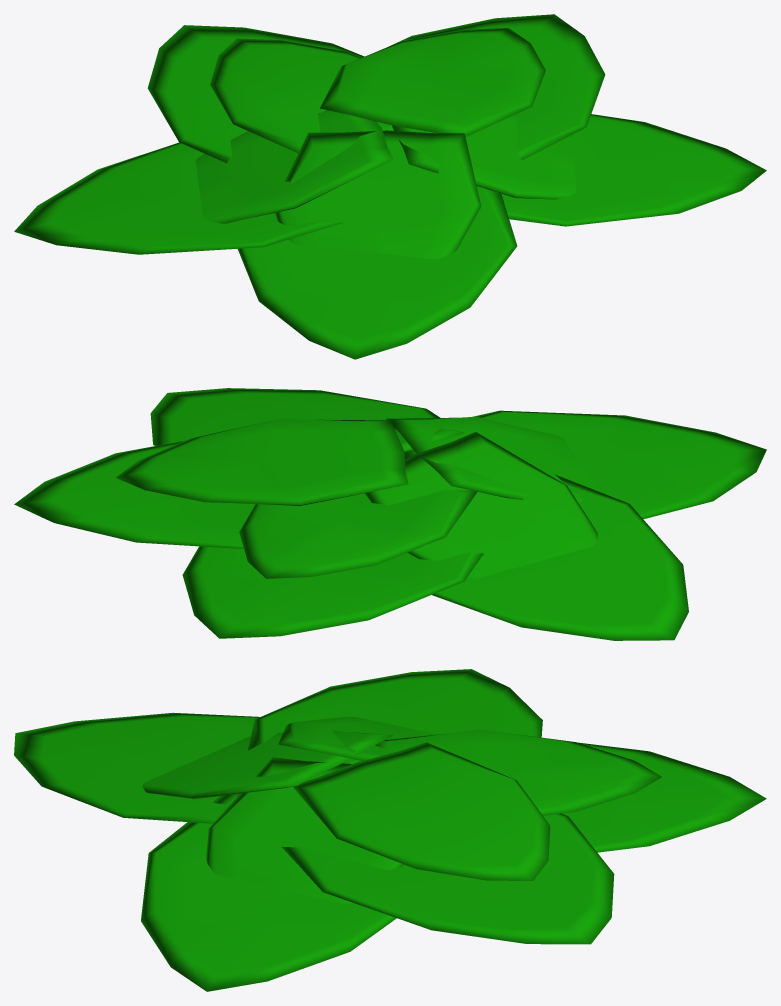
Rendered from leaf-bed.fbx.
3 renders of one model, top to bottom at view 1: azimuth 30°, elevation 25°; view 2: azimuth 150°, elevation 25°; view 3: azimuth 270°, elevation 25°, orthographic. The views are drawn at different scales.
Visible parts, largest first — view 1: Sphere.004; view 2: Sphere.004; view 3: Sphere.004.
Part boxes in pixels (x1,y1,x2,y2): Sphere.004: (14, 14, 766, 359); Sphere.004: (14, 388, 766, 640); Sphere.004: (14, 669, 766, 991).
Bounding box in the file's own units: 273 × 33.09 × 269.
